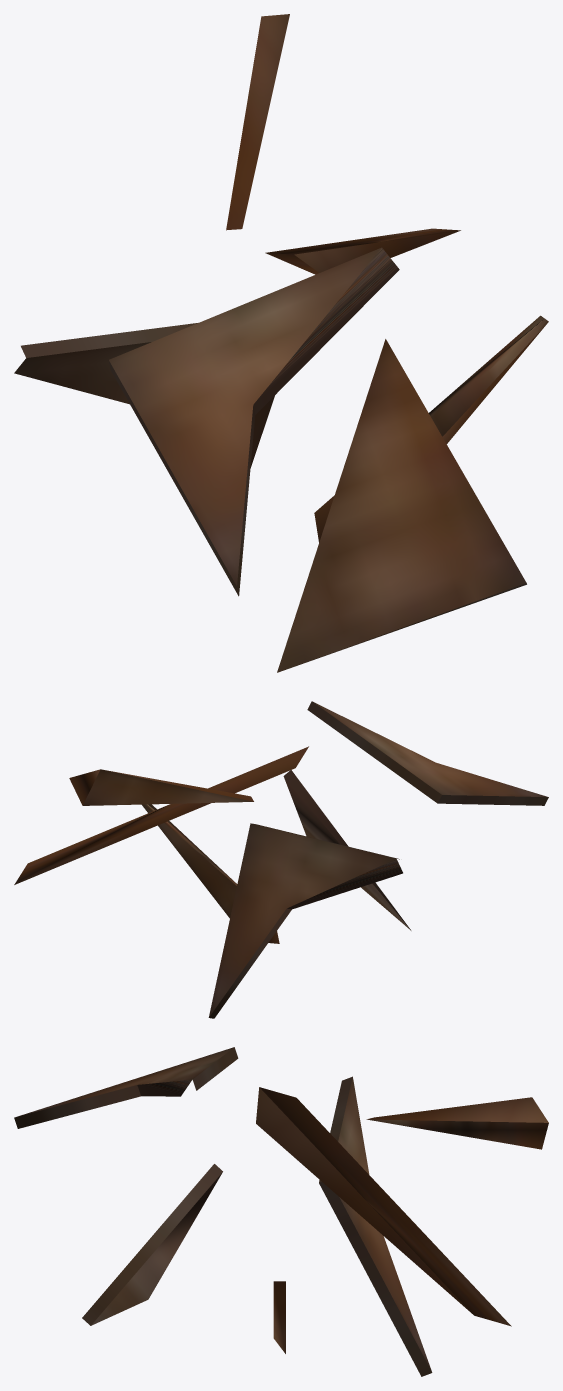
The picture shows the model from 3 angles, top to bottom: view 1: azimuth 30°, elevation 25°; view 2: azimuth 150°, elevation 25°; view 3: azimuth 270°, elevation 25°; orthographic projection. The views are drawn at different scales.
Parts seen in each view (by area): view 1: cratepieces; view 2: cratepieces; view 3: cratepieces.
Part boxes in pixels (x1=…): cratepieces: x1=14, y1=14, x2=548, y2=672; cratepieces: x1=14, y1=701, x2=548, y2=1018; cratepieces: x1=14, y1=1047, x2=548, y2=1376.
Bounding box in the file's own units: 1.15 × 0.895 × 1.36.
1 material, 1 textured.
